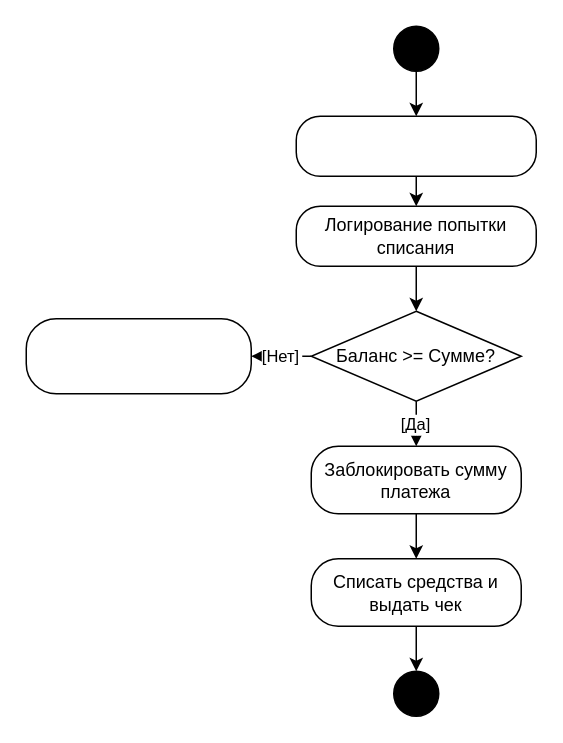
Image size: 563x743. Some labels were removed from this diagram. Here are the shapes that lost their labels. From the top down, the centre of each, then its label:
At [415,145]: "Запрос баланса выбранной карты".
At [138,355]: "Отобразить ошибку и предложить другую карту".
